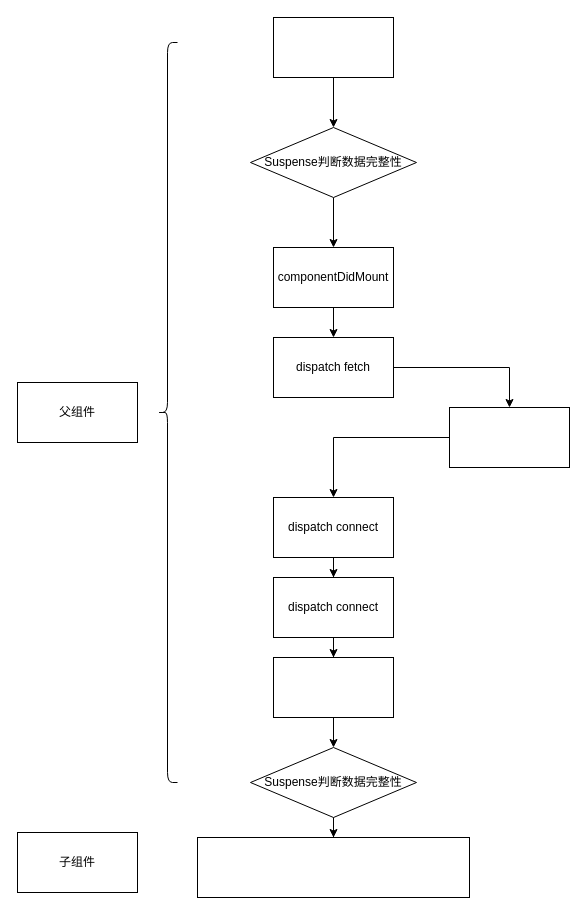
Some shapes in this 587 by 915 pixel diagram are drawn without their labels. The centre of each missing label's shape, as x and y in pixels:
Suspense.子组件渲染: the point at 333,867
后端数据: the point at 509,437
局部update: the point at 333,687
父组件预渲染: the point at 333,47
